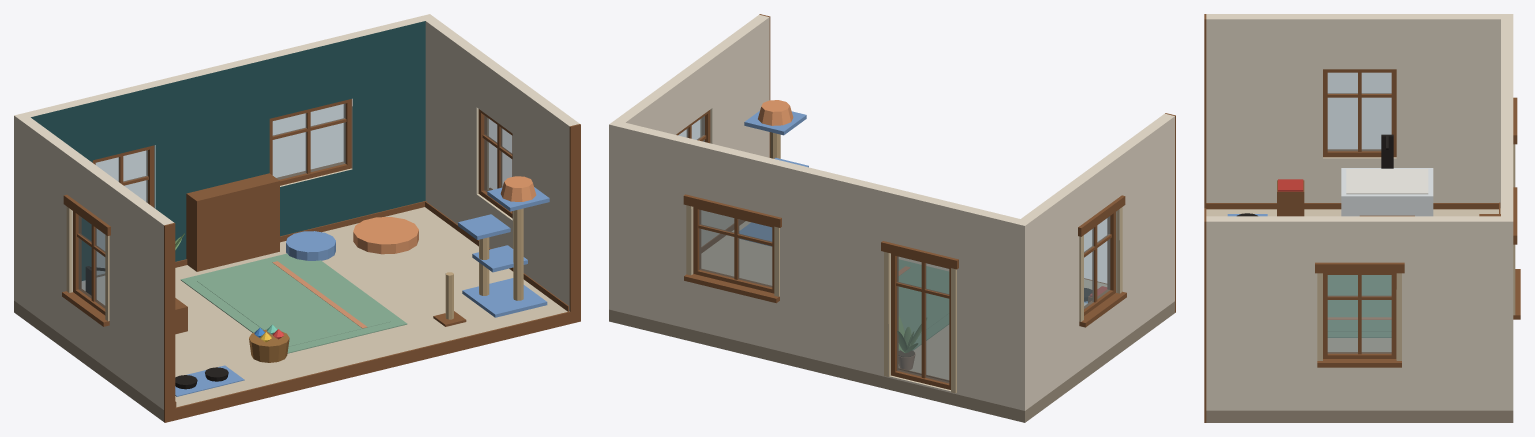
The model's file is map-pets.glb.
The picture shows the model from 3 angles, left to right: view 1: azimuth 30°, elevation 25°; view 2: azimuth 150°, elevation 25°; view 3: azimuth 270°, elevation 25°; orthographic projection. The views are drawn at different scales.
Parts seen in each view (by area): view 1: Walls, Floor_Slab, Living_Rug, Windows_Glass, Toy_Shelf, Cat_Tree, Pet_Beds, Food_Corner, Ball_Basket, Pet_Bath; view 2: Walls, Windows_Glass, Floor_Slab, Living_Rug, Cat_Tree, Plant_Desk; view 3: Walls, Windows_Glass, Floor_Slab, Pet_Bath, Living_Rug, Food_Corner.
Part boxes in pixels (bbox=[...]): Walls: bbox=[14, 14, 580, 422]; Floor_Slab: bbox=[14, 207, 569, 421]; Living_Rug: bbox=[180, 253, 407, 353]; Windows_Glass: bbox=[78, 104, 512, 308]; Toy_Shelf: bbox=[186, 173, 279, 271]; Cat_Tree: bbox=[433, 176, 549, 326]; Pet_Beds: bbox=[286, 217, 418, 260]; Food_Corner: bbox=[175, 365, 244, 396]; Ball_Basket: bbox=[249, 324, 289, 362]; Pet_Bath: bbox=[81, 266, 187, 334]; Walls: bbox=[609, 14, 1175, 410]; Windows_Glass: bbox=[678, 116, 1110, 383]; Floor_Slab: bbox=[609, 221, 1174, 422]; Living_Rug: bbox=[898, 259, 949, 350]; Cat_Tree: bbox=[739, 100, 808, 246]; Plant_Desk: bbox=[897, 316, 927, 370]; Walls: bbox=[1204, 14, 1520, 422]; Windows_Glass: bbox=[1327, 72, 1391, 353]; Floor_Slab: bbox=[1206, 208, 1513, 422]; Pet_Bath: bbox=[1341, 134, 1433, 216]; Living_Rug: bbox=[1327, 275, 1391, 337]; Food_Corner: bbox=[1227, 179, 1304, 216].
Bounding box in the file's own units: 8.24 × 3.62 × 5.15.
